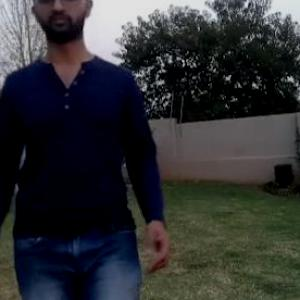follow: (1, 0, 157, 299)
